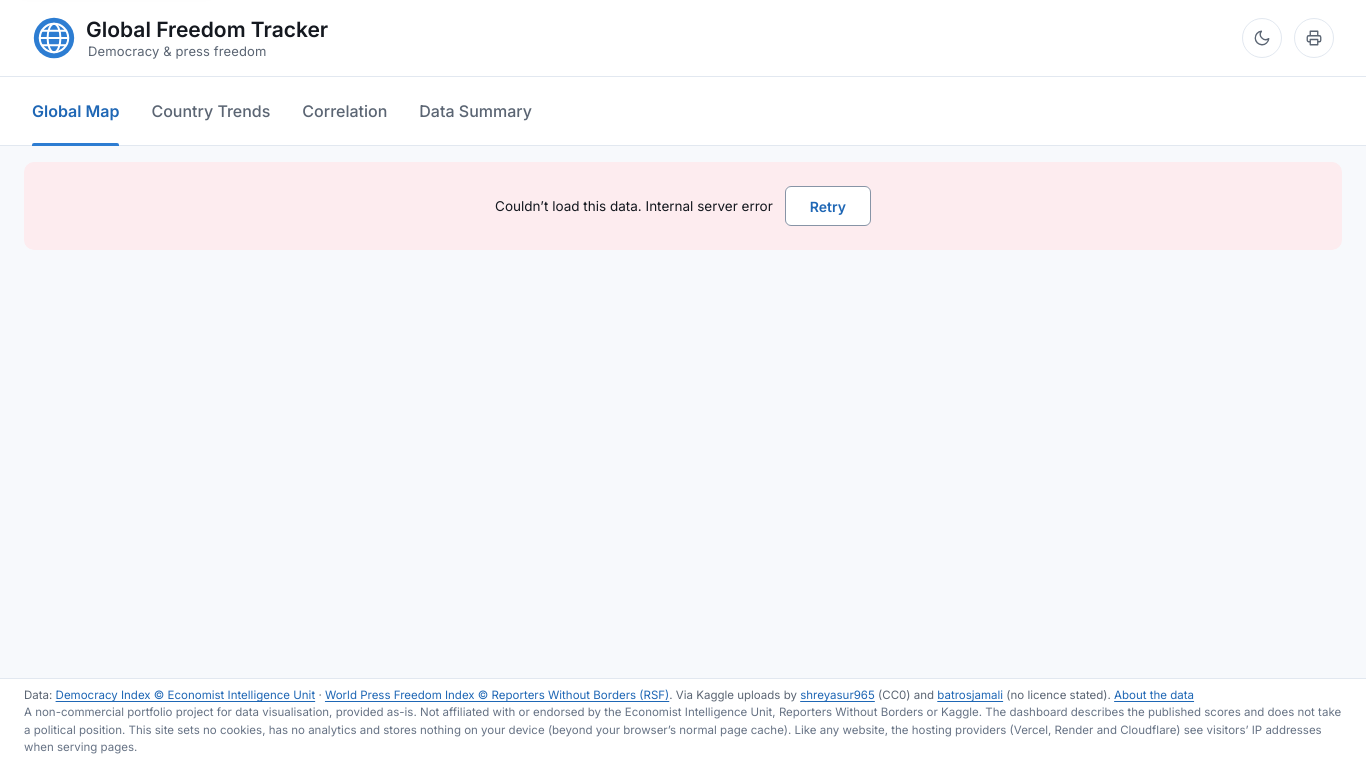
it: App › shows an error with Retry if the headline data fails to load
This screenshot has width=1366, height=768.
Expected: the message shows "Internal server error", x1=646 y1=198 x2=773 y2=214
What coordinates should you click on to do the following:
click the button "Retry"
I would click on:
 (828, 206)
Its box is x1=785 y1=186 x2=871 y2=226.
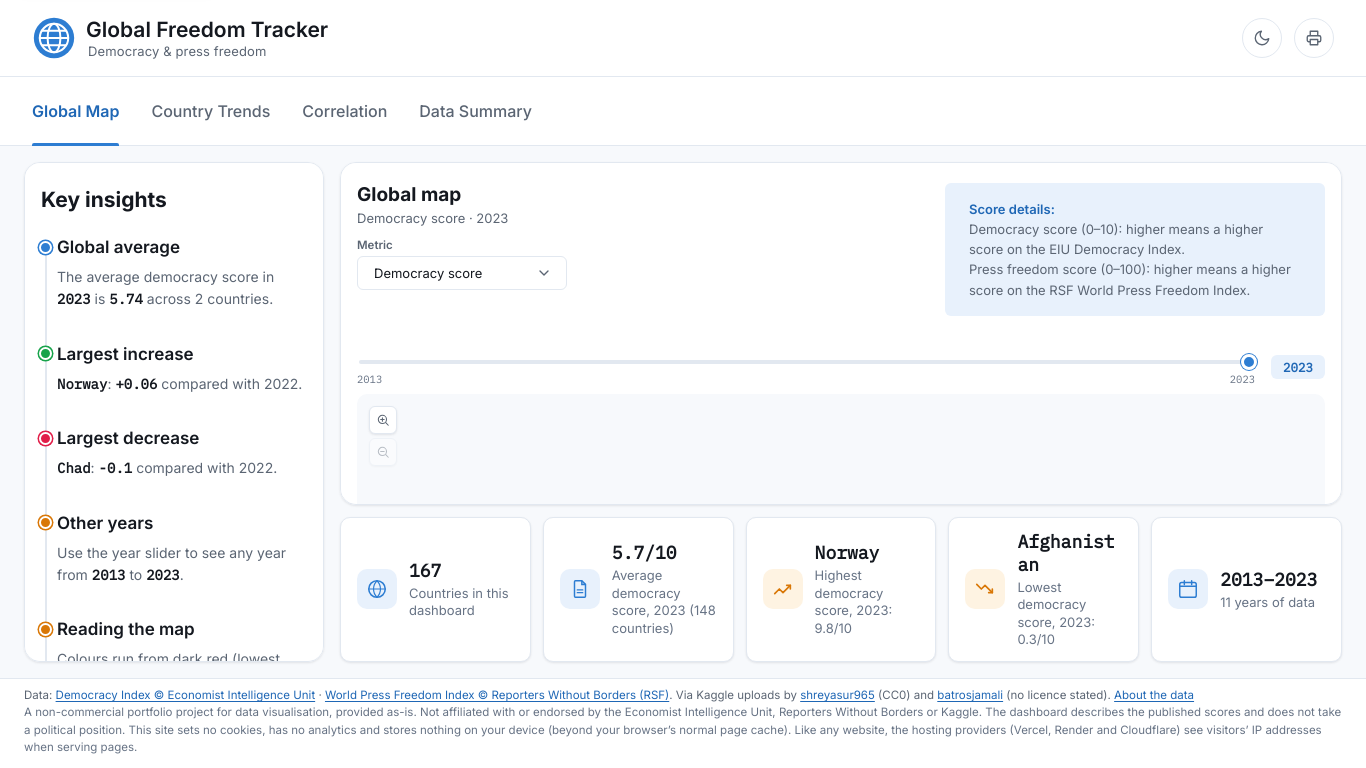
Now the heading "Global map" is shown, box x1=357 y1=183 x2=461 y2=206
